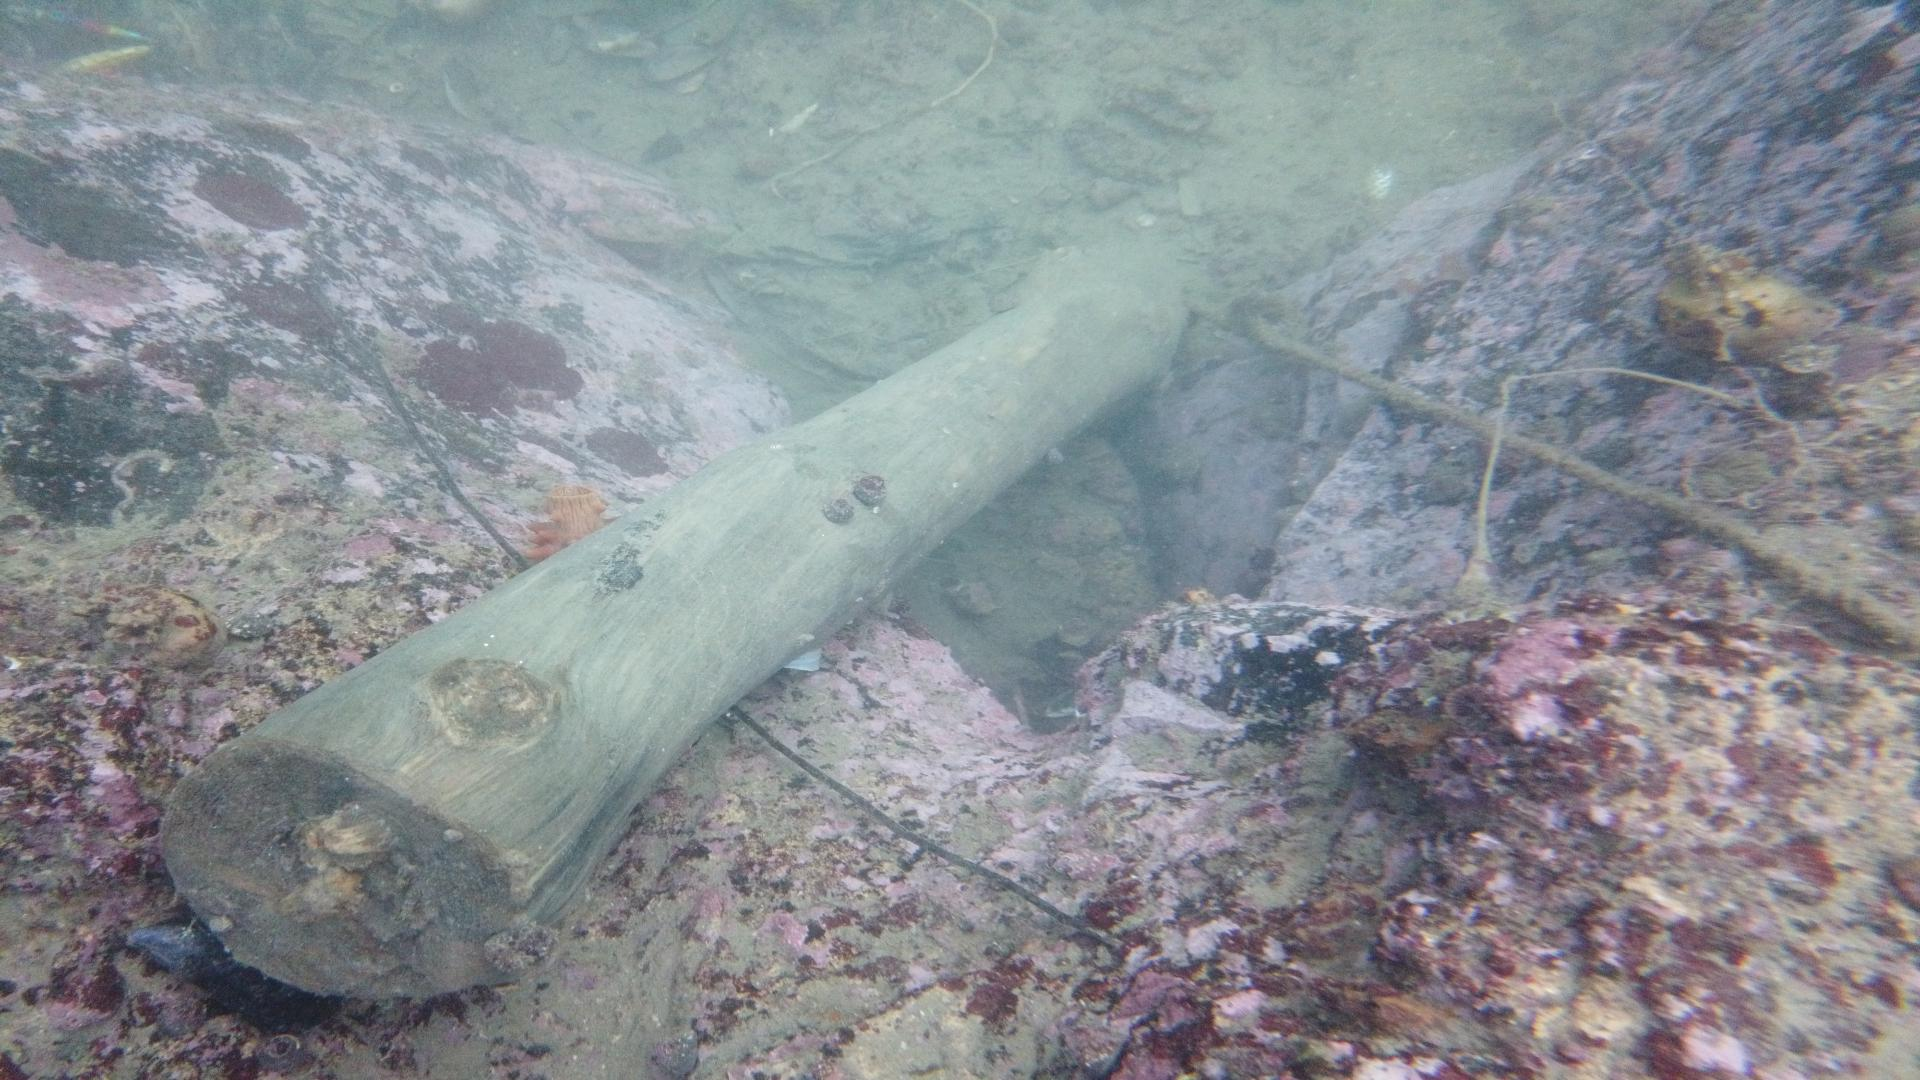rope: (1188, 295, 1920, 642)
wood: (156, 244, 1185, 1001)
